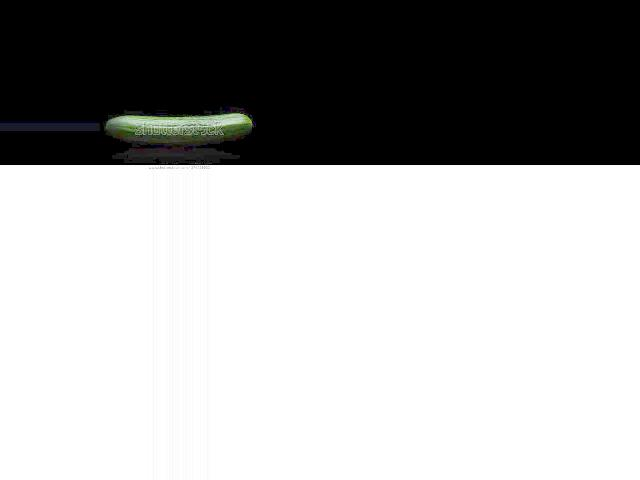cucumber: (106, 114, 253, 136)
